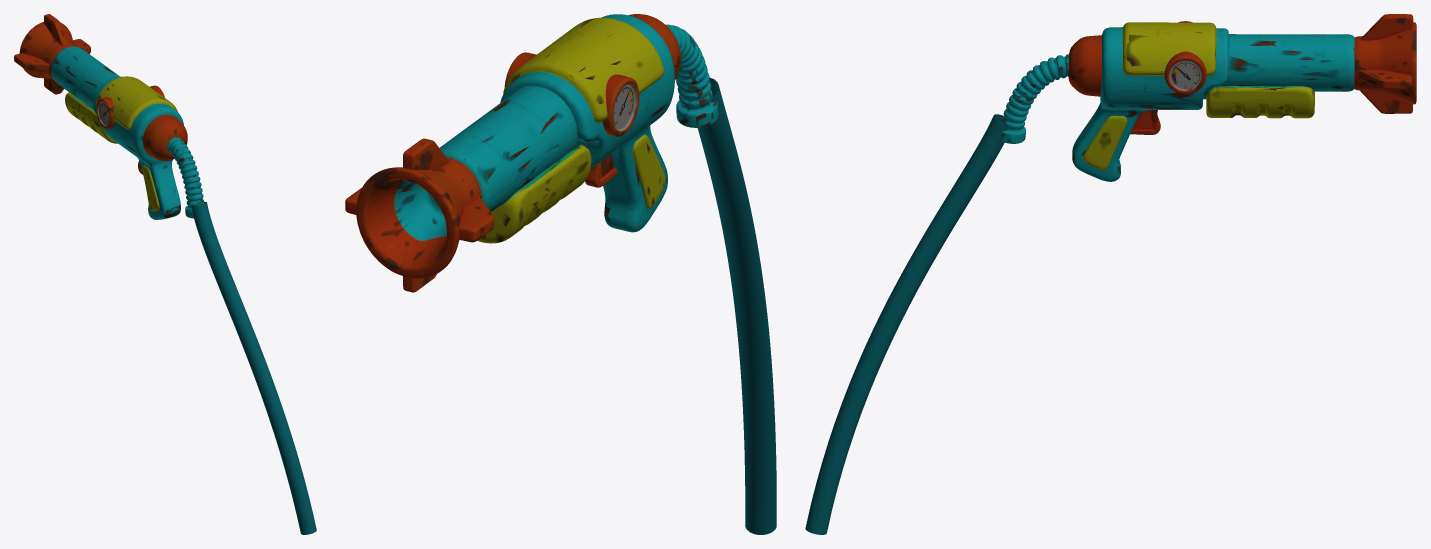
Rendered from lancia_b_cannone.gltf.
The picture shows the model from 3 angles, left to right: view 1: azimuth 30°, elevation 25°; view 2: azimuth 150°, elevation 25°; view 3: azimuth 270°, elevation 25°; orthographic projection. The views are drawn at different scales.
Parts seen in each view (by area): view 1: Lancia, TuboZaino; view 2: Lancia, TuboZaino; view 3: Lancia, TuboZaino.
Boxes of the visible parts, <box> form: Lancia: <box>14,14,204,219</box>; TuboZaino: <box>191,202,316,534</box>; Lancia: <box>345,14,718,292</box>; TuboZaino: <box>697,77,776,534</box>; Lancia: <box>1000,14,1416,181</box>; TuboZaino: <box>805,114,1007,534</box>.
Size of the model in its own units: 0.2831 by 1.23 by 1.38.
2 materials, 1 textured.
